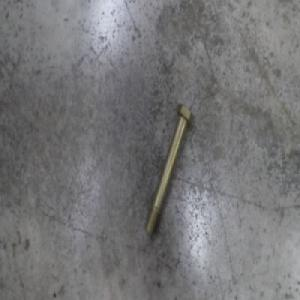Bolt: (145, 103, 194, 237)
